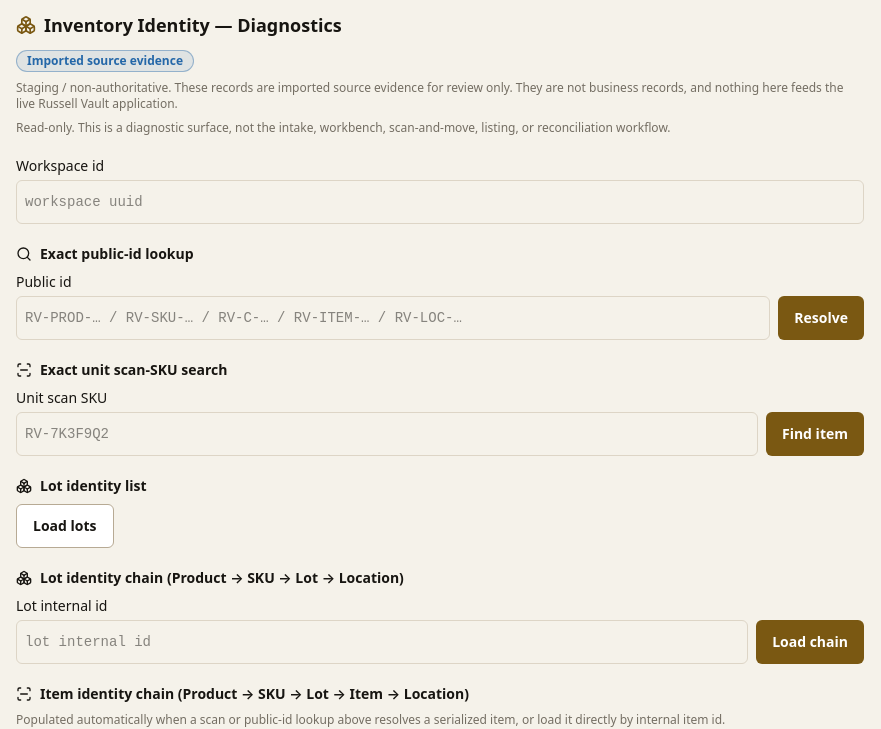
InventoryIdentity — the primitives it now uses › renders lots as records carrying every fact the old card showed
The width and height of the screenshot is (881, 729).
Type "11111111-1111-4111-8111-111111111111" into the field labelled "Workspace id".
click(440, 202); type("11111111-1111-4111-8111-111111111111")  # box x1=16 y1=180 x2=864 y2=224
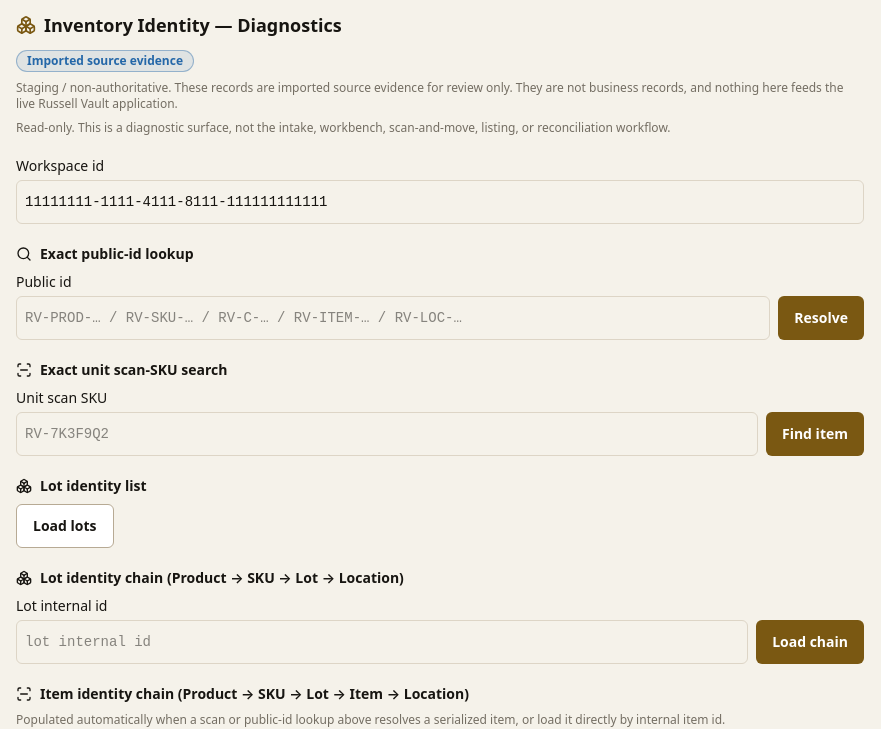
Click the button "Load lots".
click(65, 526)  # box x1=16 y1=504 x2=114 y2=548
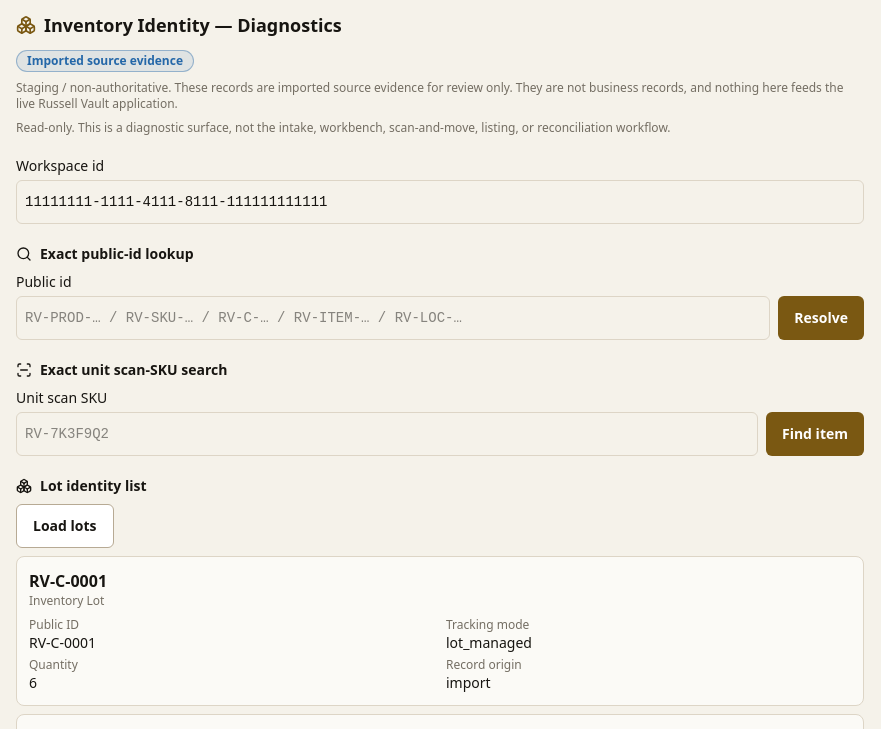
Expected: the text "Tracking mode" is shown, x1=446 y1=616 x2=529 y2=633
Expected: the text "Quantity" is shown, x1=29 y1=656 x2=78 y2=673
Expected: the text "Record origin" is shown, x1=446 y1=656 x2=522 y2=673
